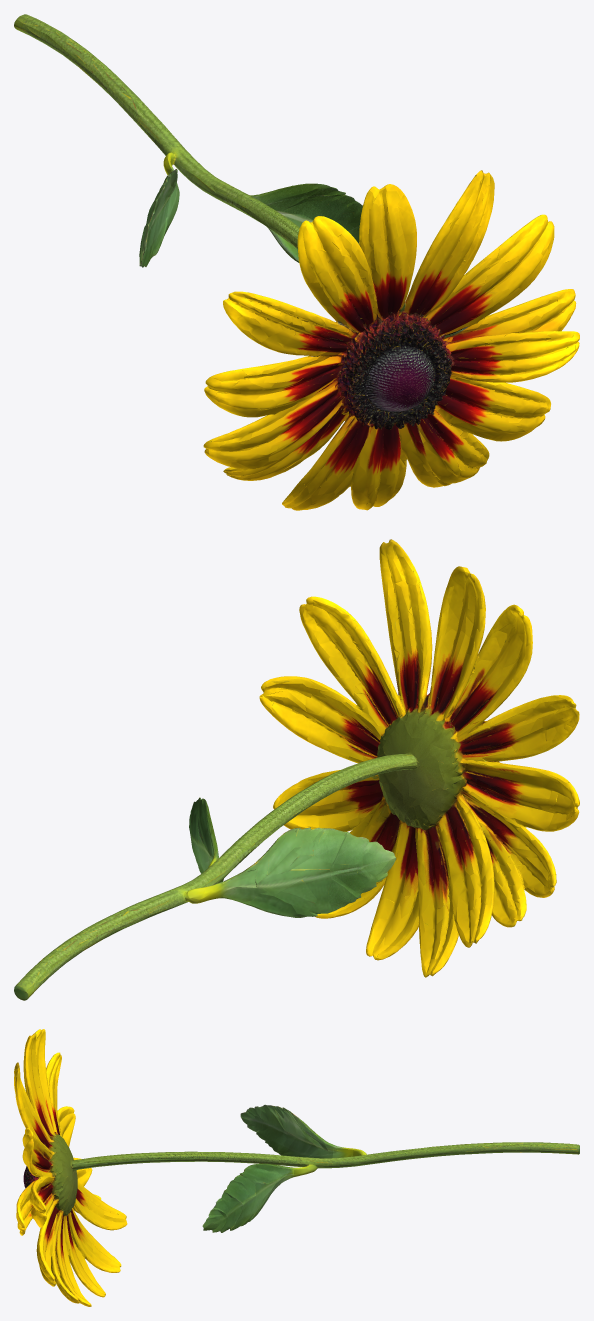
File: rudbeckia_long_stem.glb
3 views of the same model, one above another, from view 1: azimuth 30°, elevation 25°; view 2: azimuth 150°, elevation 25°; view 3: azimuth 270°, elevation 25° (orthographic). The views are drawn at different scales.
Size of the model in its own units: 0.0982 by 0.1 by 0.2063.
1 material, 1 textured.
